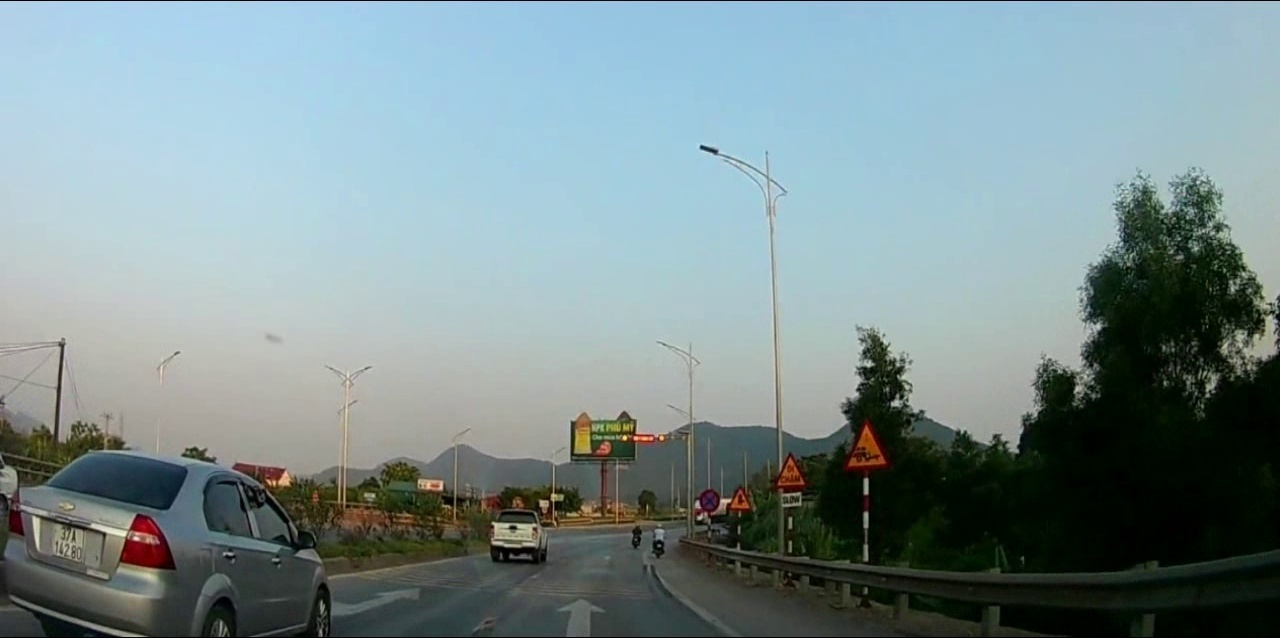Bien khac: (770, 455, 806, 490)
Giao nhau voi duong khong uu tien: (727, 485, 751, 510)
